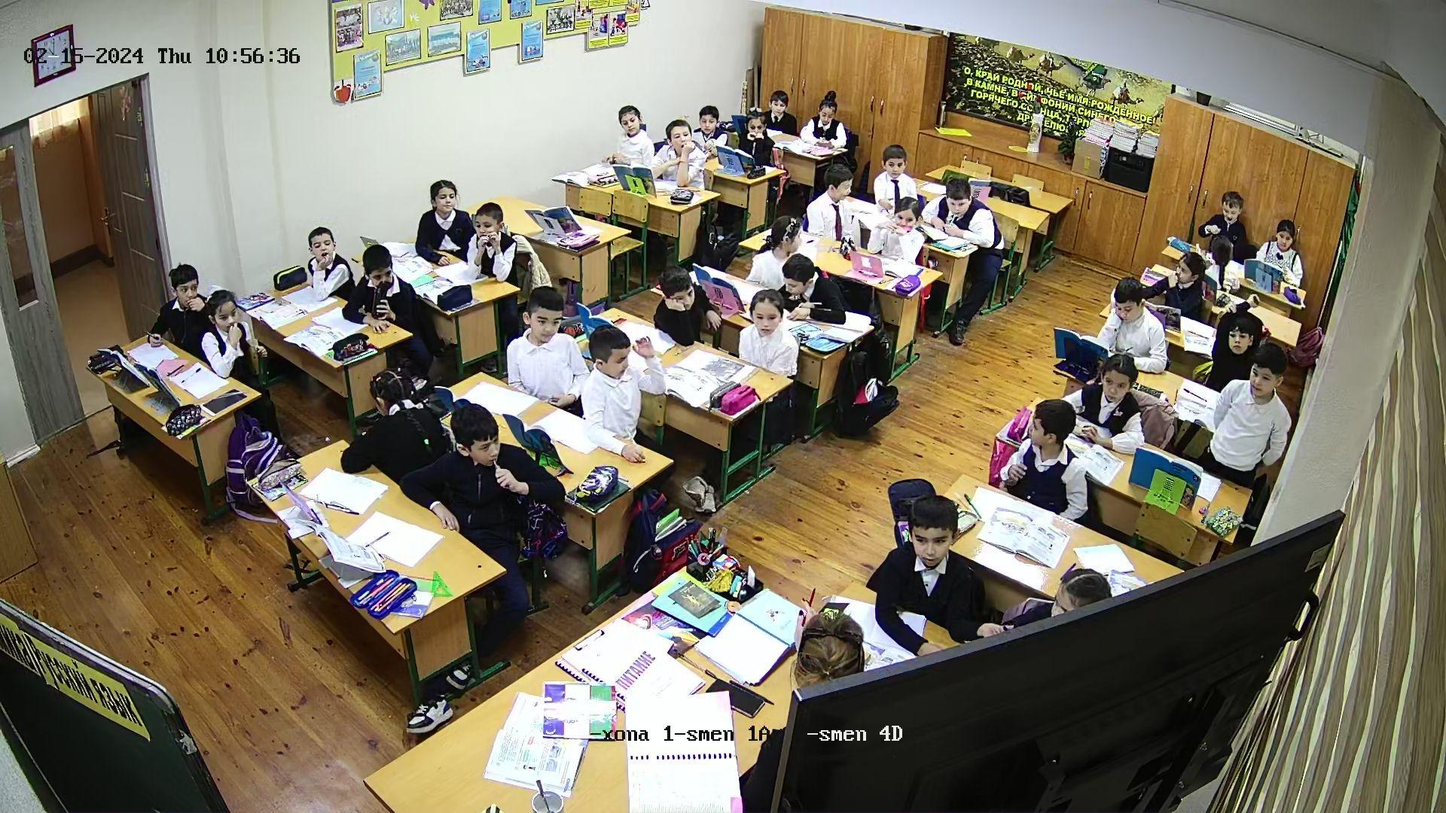Look Around: (364, 369, 424, 445), (1017, 393, 1075, 464), (1156, 250, 1206, 299), (818, 165, 856, 228), (767, 214, 806, 253)
Wave: (633, 330, 669, 403)
